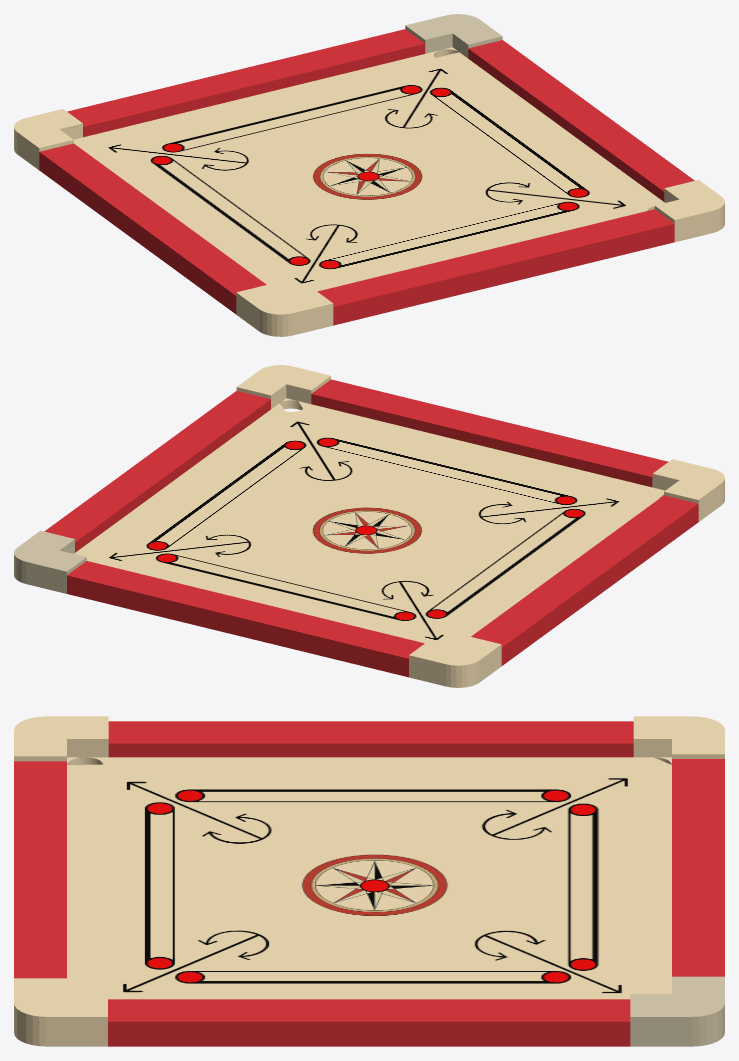
File: DefaultBoardV1.fbx
3 views of the same model, one above another, from view 1: azimuth 30°, elevation 25°; view 2: azimuth 150°, elevation 25°; view 3: azimuth 270°, elevation 25° (orthographic). The views are drawn at different scales.
Parts seen in each view (by area): view 1: Middle, Edges, Corner3, Corner2, Corner1, Corner4; view 2: Middle, Edges, Corner4, Corner1, Corner3, Corner2; view 3: Middle, Edges, Corner1, Corner2, Corner3, Corner4.
Boxes of the visible parts, left/top/right/bottom form: Middle: left=73, top=47, right=664, bottom=295; Edges: left=39, top=29, right=694, bottom=325; Corner3: left=236, top=284, right=333, bottom=336; Corner2: left=654, top=180, right=724, bottom=242; Corner1: left=405, top=14, right=502, bottom=58; Corner4: left=14, top=109, right=82, bottom=169; Middle: left=74, top=398, right=664, bottom=646; Edges: left=44, top=379, right=698, bottom=677; Corner4: left=409, top=636, right=501, bottom=687; Corner1: left=14, top=530, right=86, bottom=593; Corner3: left=652, top=459, right=724, bottom=521; Corner2: left=236, top=365, right=330, bottom=408; Middle: left=67, top=757, right=671, bottom=999; Edges: left=14, top=721, right=724, bottom=1046; Corner1: left=630, top=976, right=724, bottom=1046; Corner2: left=14, top=978, right=107, bottom=1046; Corner3: left=14, top=716, right=108, bottom=764; Corner4: left=633, top=716, right=724, bottom=758.
Size of what is drawn, in the model's own units: 0.87 by 0.0401 by 0.87.
3 materials, 1 textured.
